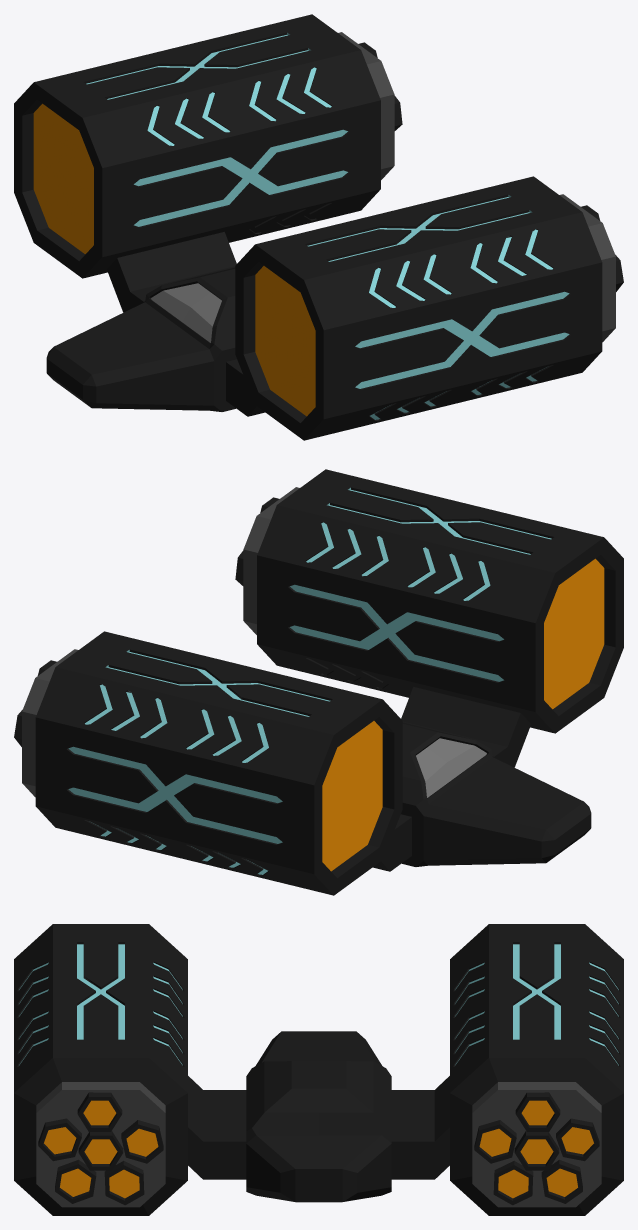
Rendered from SpaceShip.fbx.
3 views of the same model, one above another, from view 1: azimuth 30°, elevation 25°; view 2: azimuth 150°, elevation 25°; view 3: azimuth 270°, elevation 25° (orthographic).
Parts seen in each view (by area): view 1: Cube.009; view 2: Cube.009; view 3: Cube.009.
Part boxes in pixels (box(x1,y1,x2,y2)): Cube.009: box(14, 14, 623, 440); Cube.009: box(14, 469, 623, 895); Cube.009: box(14, 924, 623, 1215).
Bounding box in the file's own units: 776 × 370 × 999.
